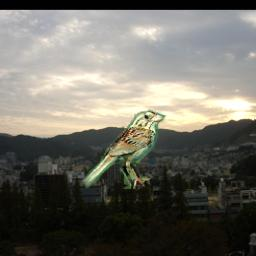Sparrow: (81, 110, 165, 190)
